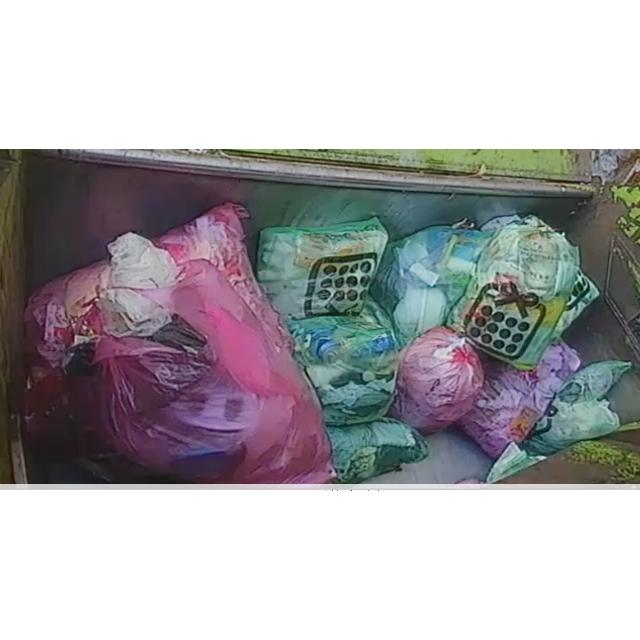general_trashbag: (449, 216, 580, 370), (370, 226, 491, 345), (288, 303, 398, 425), (258, 218, 389, 319), (524, 360, 631, 455), (326, 418, 428, 483)
other_trashbag: (26, 204, 334, 484), (460, 342, 581, 457), (392, 326, 484, 433)
